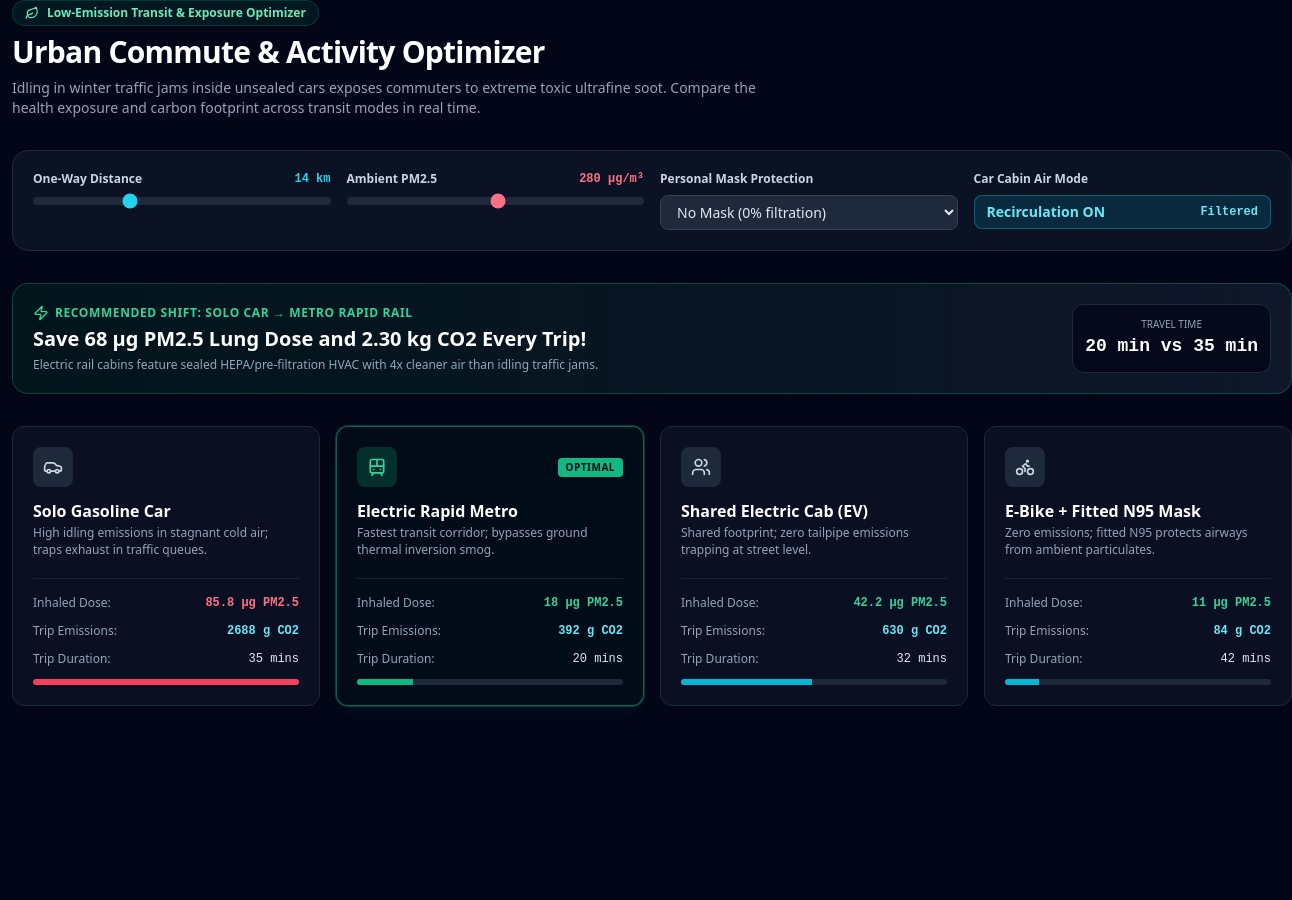
Scenario: RoutineOptimizerView Component › toggles car cabin recirculation setting
Click the button "Recirculation ON Filtered": (1046, 212) [974, 195, 1271, 229]
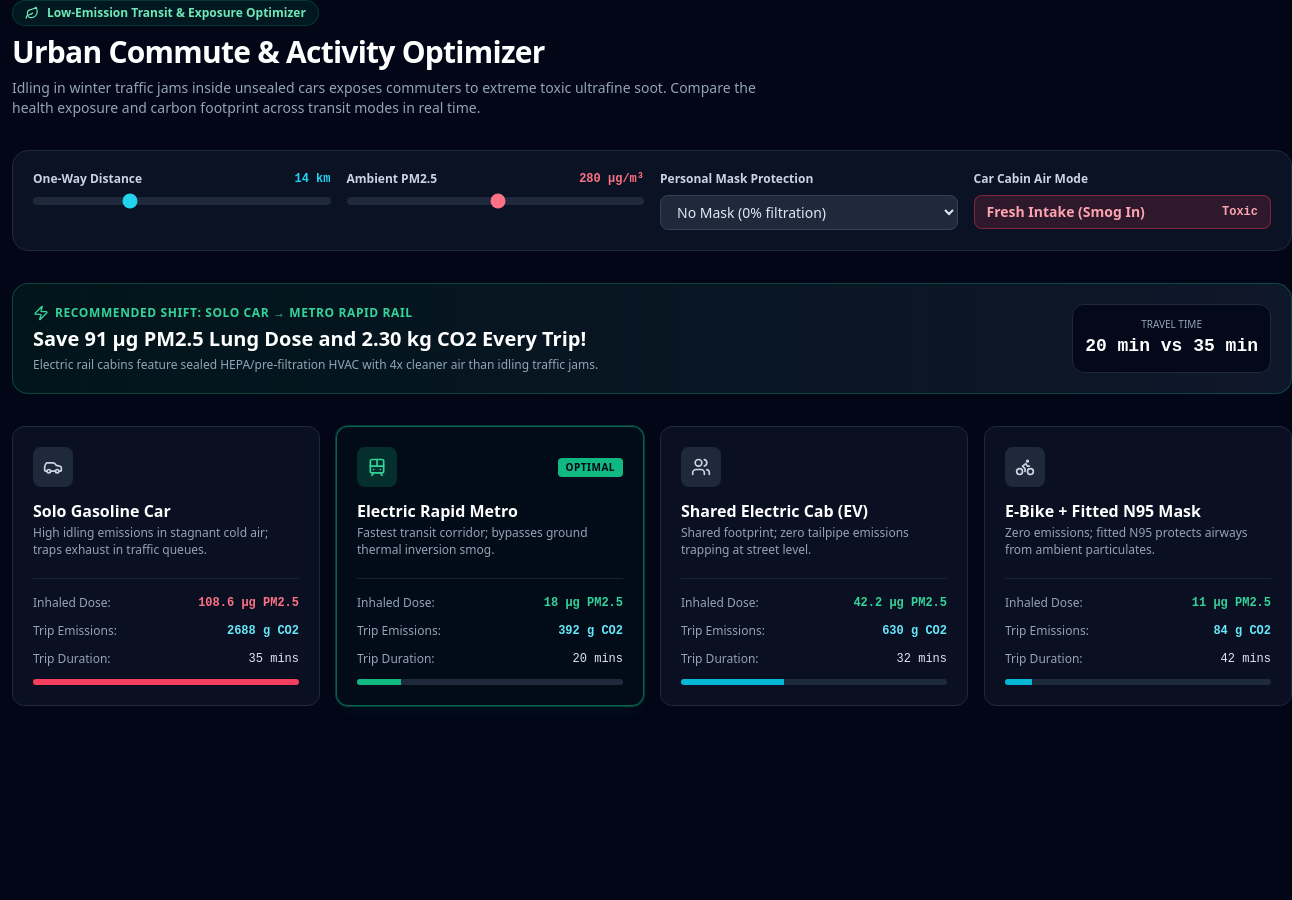
Now the text "Fresh Intake (Smog In)" is shown, box [986, 202, 1145, 222]
